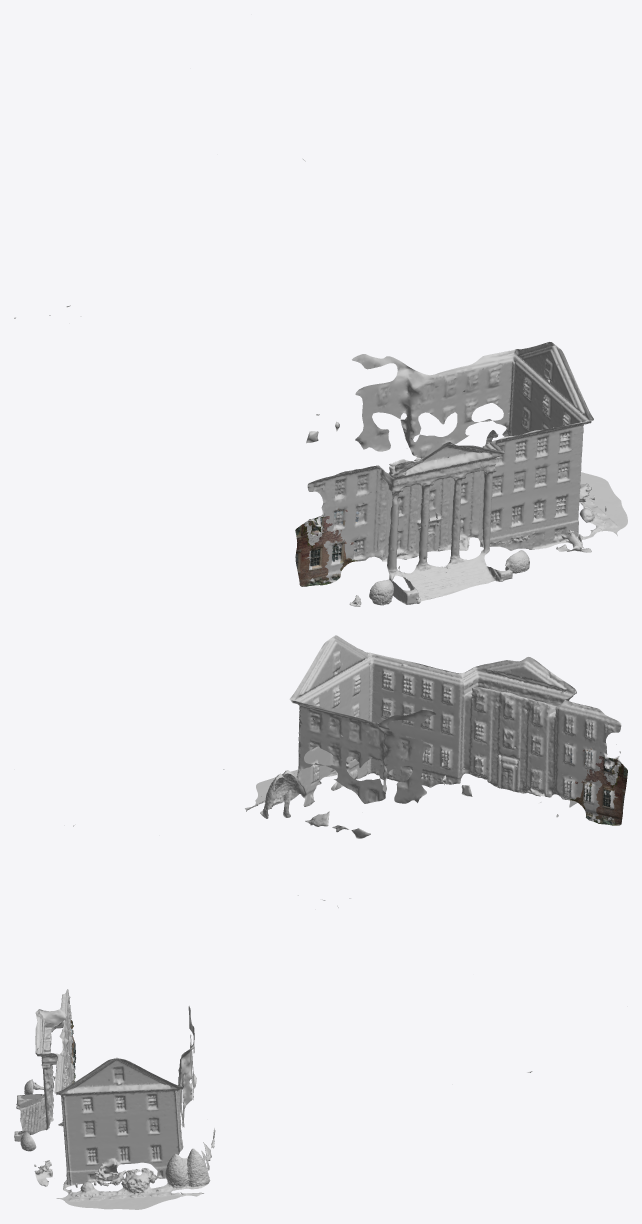
The model's file is meshWithTexture.fbx.
3 views of the same model, one above another, from view 1: azimuth 30°, elevation 25°; view 2: azimuth 150°, elevation 25°; view 3: azimuth 270°, elevation 25° (orthographic). The views are drawn at different scales.
Visible parts, largest first — view 1: scene_dense_mesh_refine_texture; view 2: scene_dense_mesh_refine_texture; view 3: scene_dense_mesh_refine_texture.
Boxes of the visible parts, x1,y1,x2,y2 form: scene_dense_mesh_refine_texture: (14,14,627,606); scene_dense_mesh_refine_texture: (73,635,627,838); scene_dense_mesh_refine_texture: (14,895,532,1209).
Bounding box in the file's own units: 870 × 455 × 1245.
